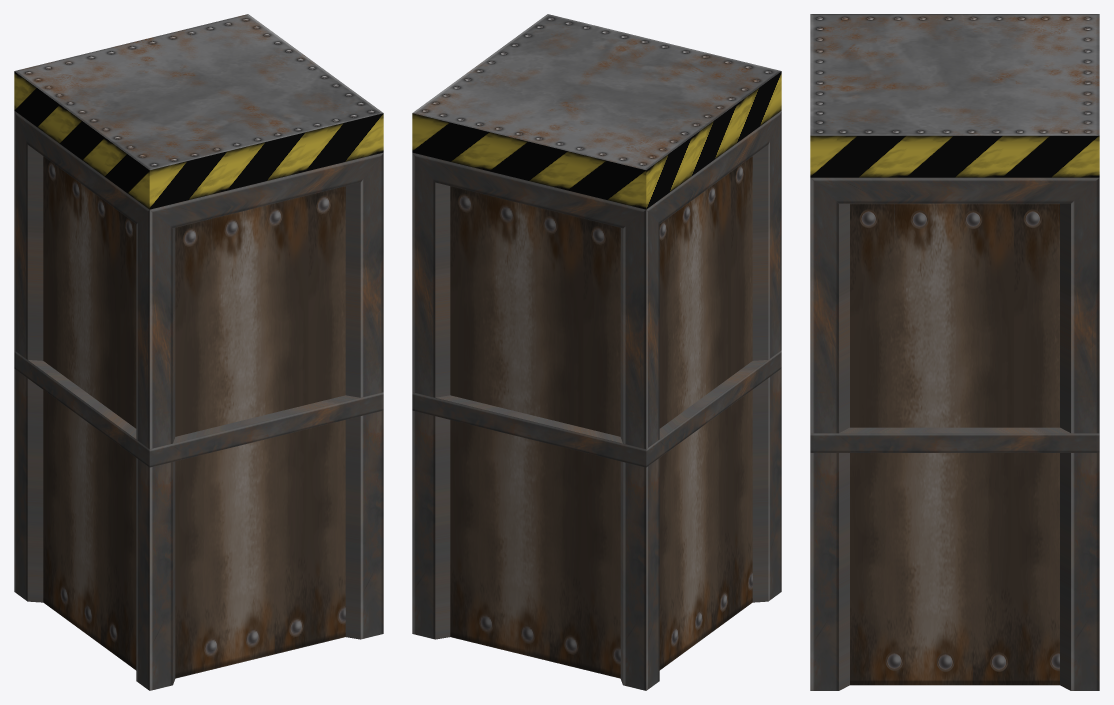
Rendered from MovingTower.fbx.
The picture shows the model from 3 angles, left to right: view 1: azimuth 30°, elevation 25°; view 2: azimuth 150°, elevation 25°; view 3: azimuth 270°, elevation 25°; orthographic projection. The views are drawn at different scales.
Parts seen in each view (by area): view 1: MovingPillar; view 2: MovingPillar; view 3: MovingPillar.
Part boxes in pixels (x1,y1,x2,y2): MovingPillar: (14,14,383,690); MovingPillar: (412,14,781,690); MovingPillar: (810,14,1099,690).
Bounding box in the file's own units: 292 × 621 × 293.
